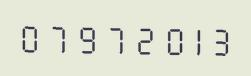nine: (71, 19, 97, 55)
one: (179, 20, 205, 57)
seven: (44, 18, 70, 55), (98, 19, 124, 55)
three: (206, 21, 232, 57)
two: (125, 20, 151, 56)
zero: (17, 18, 43, 54), (152, 20, 178, 56)
